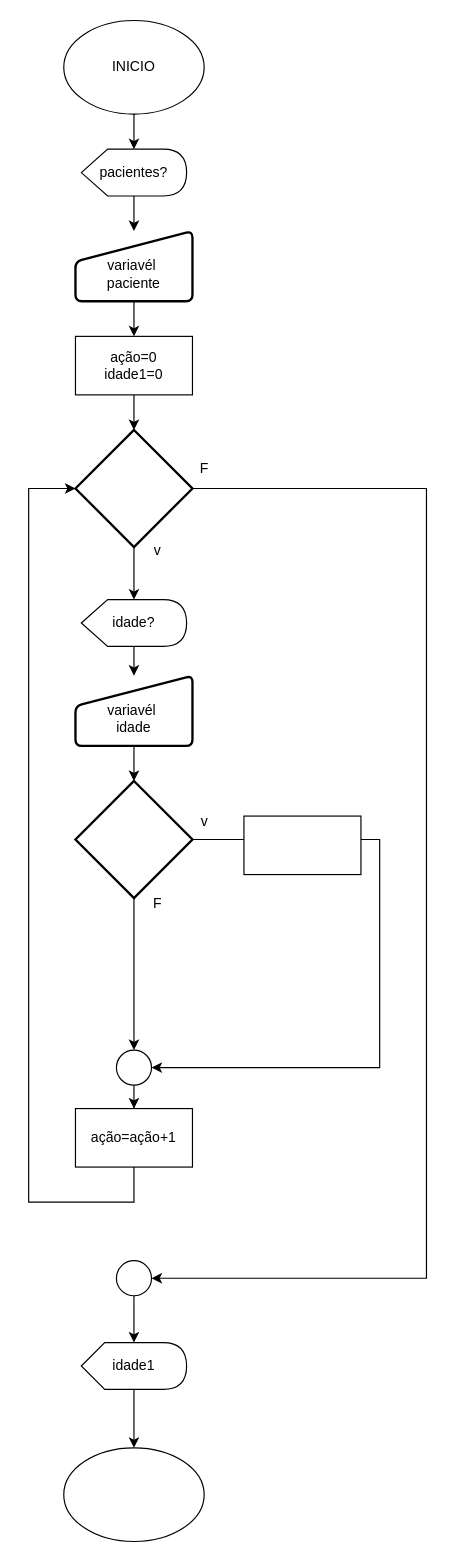
The diagram is 456 pixels wide and 1562 high, and some of its shapes have lost their labels. The shapes that lost their labels are listed below. From the top down, each one's centre as x and y in pixels, then its label:
the point at 133,488: se ação<paciente
the point at 133,839: se idade>idade1
the point at 302,845: idade1= idade
the point at 133,1494: FIM
